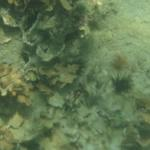alive: (2, 2, 148, 147)
